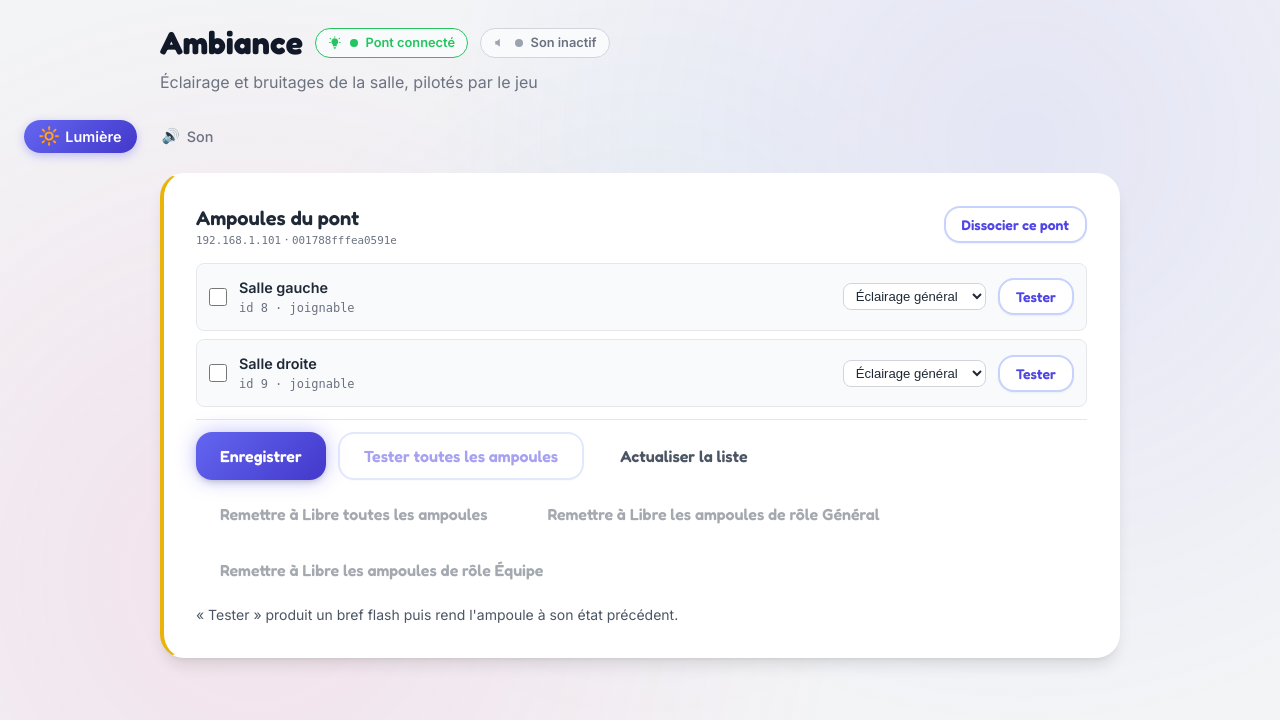
Test: AmbiancePage — #213 rôle par ampoule › une équipe littéralement nommée "general" reste sélectionnable — pas de collision de value (revue code-reviewer)
Expected: the text "Salle gauche" is shown, [239,279,328,296]
Click the checkbox labelled "Salle gauche" at (218, 297), box [209,288,227,306]
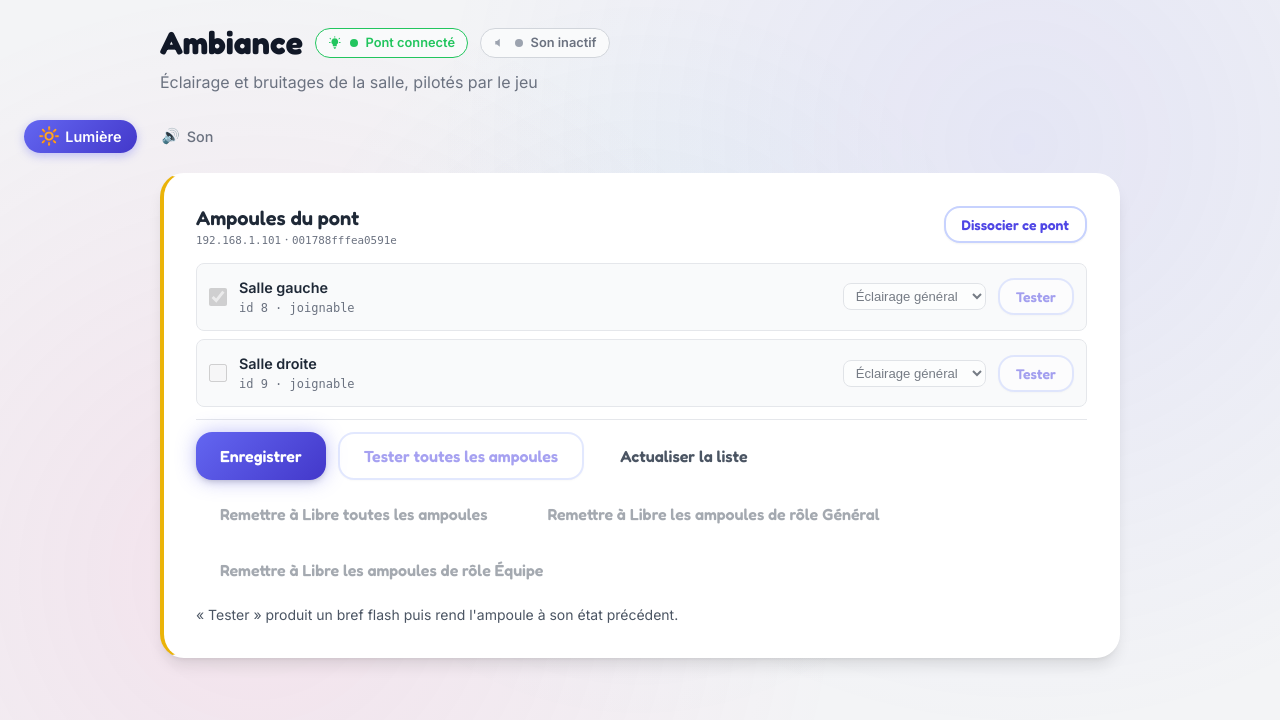
Select "Équipe — general" in the dropdown named "Rôle de Salle gauche" at (914, 297), box [843,283,986,310]
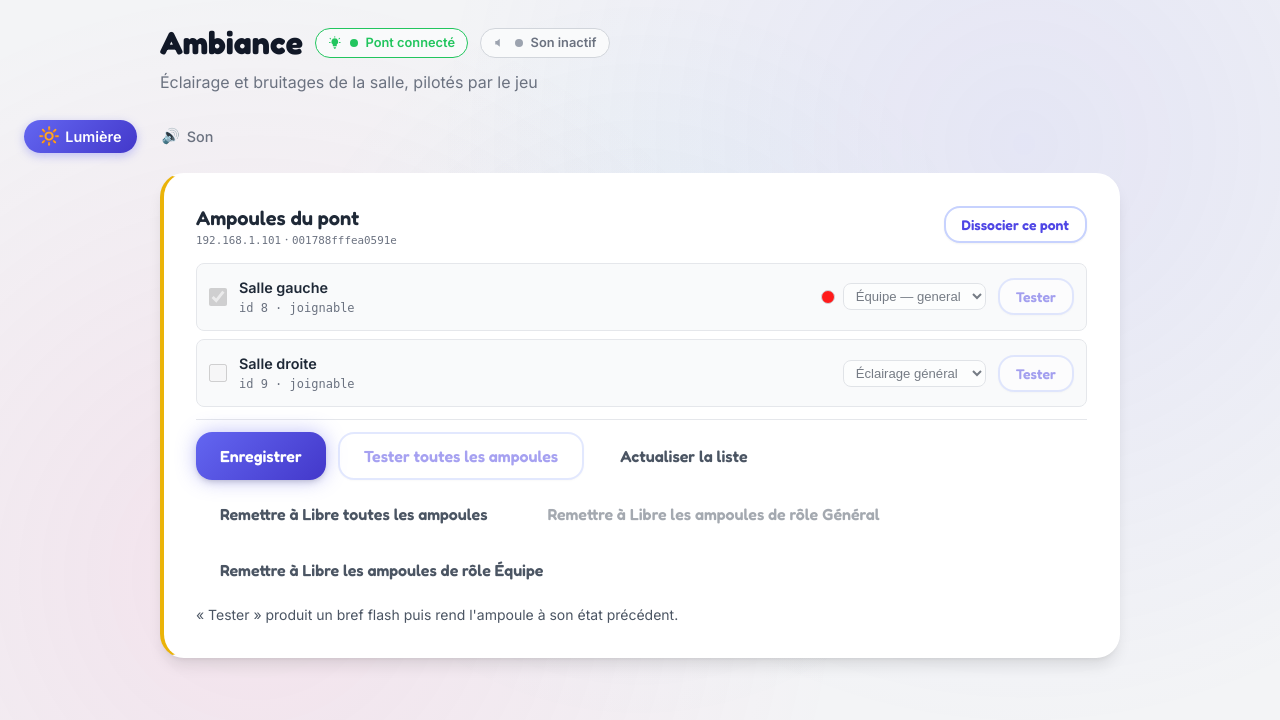
Click the button "Enregistrer" at (261, 456), box [196,432,326,480]
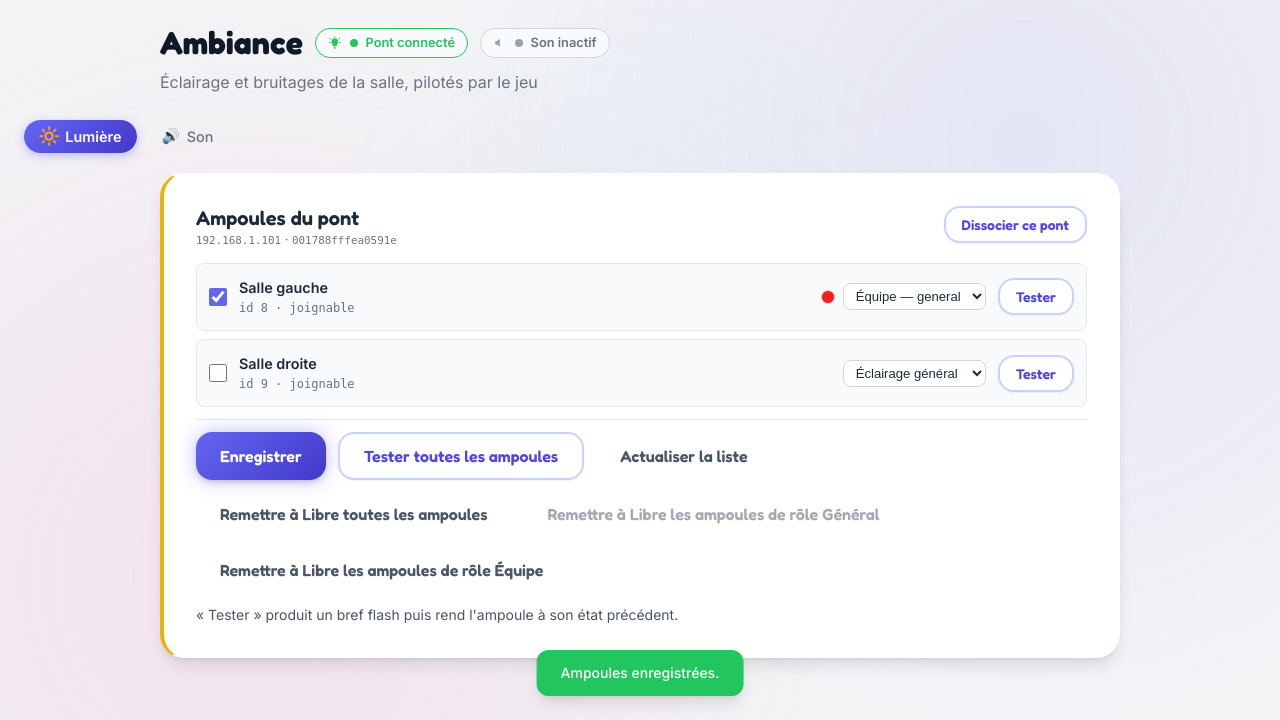
Expected: the text "Ampoules enregistrées." is shown, [537,650,743,696]
